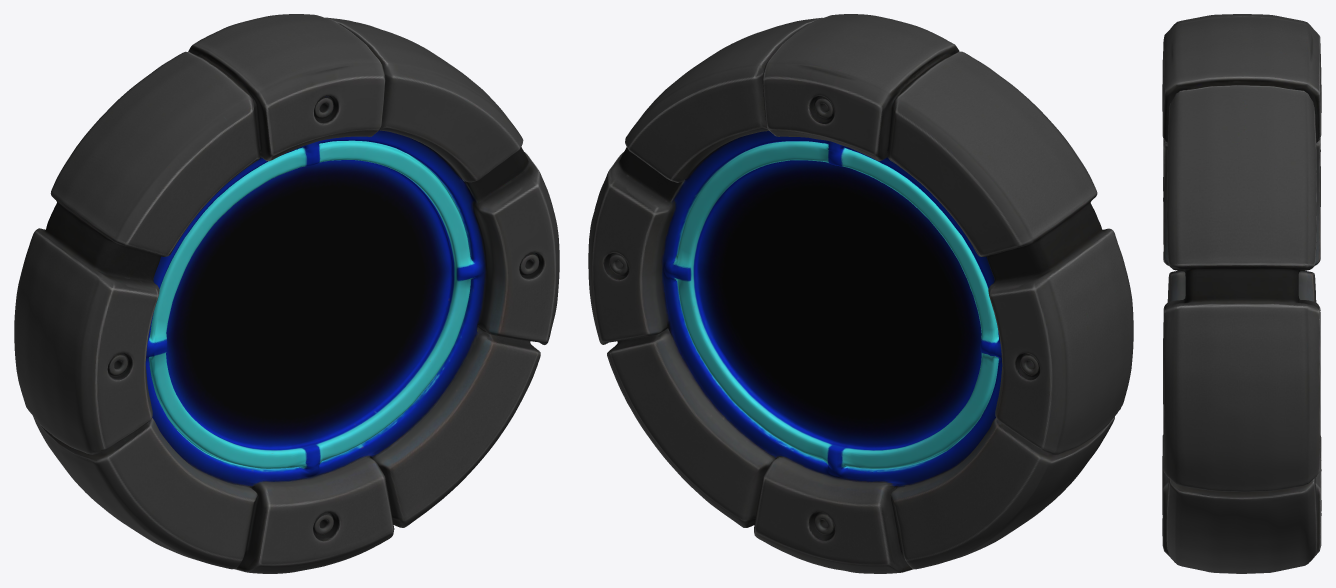
File: tripo_convert_a809ae2c-fa6b-422e-9393-90d8ddd57f82.fbx
3 renders of one model, left to right at view 1: azimuth 30°, elevation 25°; view 2: azimuth 150°, elevation 25°; view 3: azimuth 270°, elevation 25°, orthographic.
Visible parts, largest first — view 1: tripo_node_a809ae2c; view 2: tripo_node_a809ae2c; view 3: tripo_node_a809ae2c.
Part boxes in pixels (<box>): tripo_node_a809ae2c: <box>14,14,559,573</box>; tripo_node_a809ae2c: <box>588,14,1133,573</box>; tripo_node_a809ae2c: <box>1162,14,1321,573</box>.
Bounding box in the file's own units: 0.9792 × 0.9769 × 0.2757.
1 material, 1 textured.
